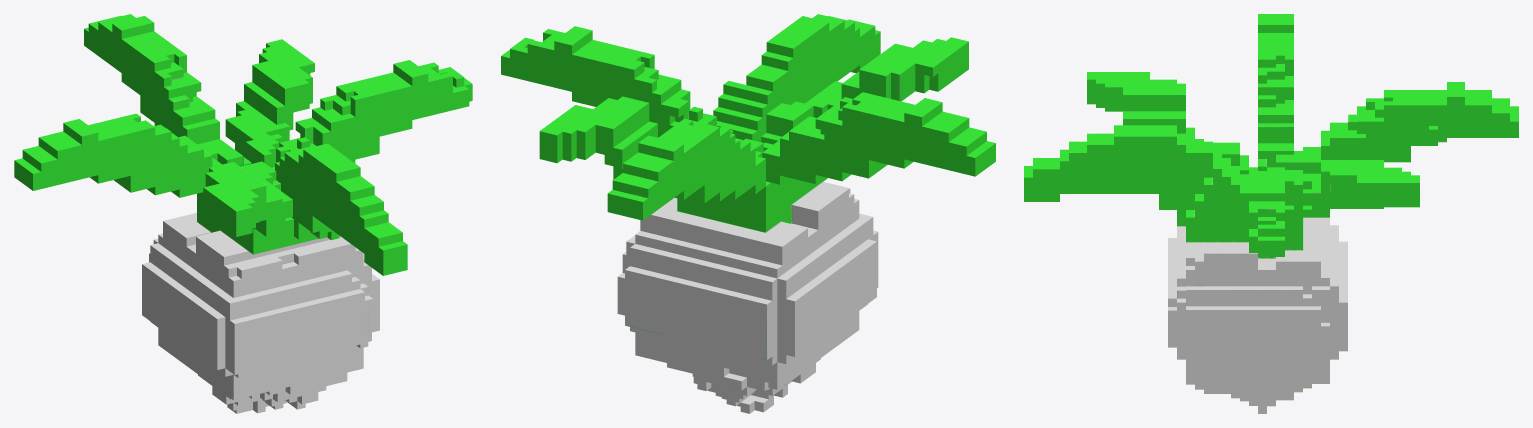
Rendered from sakurajimadaikon.glb.
3 views of the same model, side by side, from view 1: azimuth 30°, elevation 25°; view 2: azimuth 150°, elevation 25°; view 3: azimuth 270°, elevation 25° (orthographic). The views are drawn at different scales.
Visible parts, largest first — view 1: sakurajimadaikon; view 2: sakurajimadaikon; view 3: sakurajimadaikon.
Boxes of the visible parts, x1=… form: sakurajimadaikon: x1=14, y1=14, x2=472, y2=413; sakurajimadaikon: x1=501, y1=14, x2=995, y2=413; sakurajimadaikon: x1=1024, y1=14, x2=1518, y2=413.
Bounding box in the file's own units: 1.08 × 0.74 × 1.1.
1 material, 1 textured.
